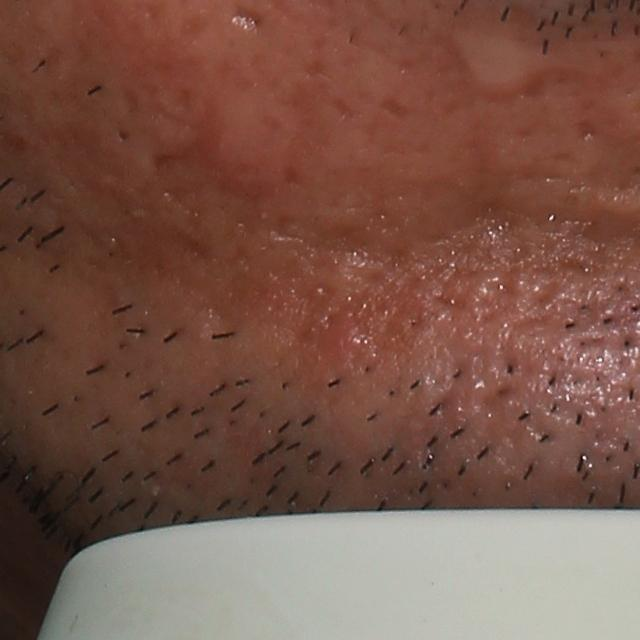atrophic_scar: (452, 200, 544, 267), (303, 222, 374, 270), (228, 6, 268, 34), (329, 97, 361, 127), (379, 94, 407, 121), (575, 118, 596, 143)
hypertrophic_scar: (449, 27, 558, 94), (313, 249, 377, 303)
